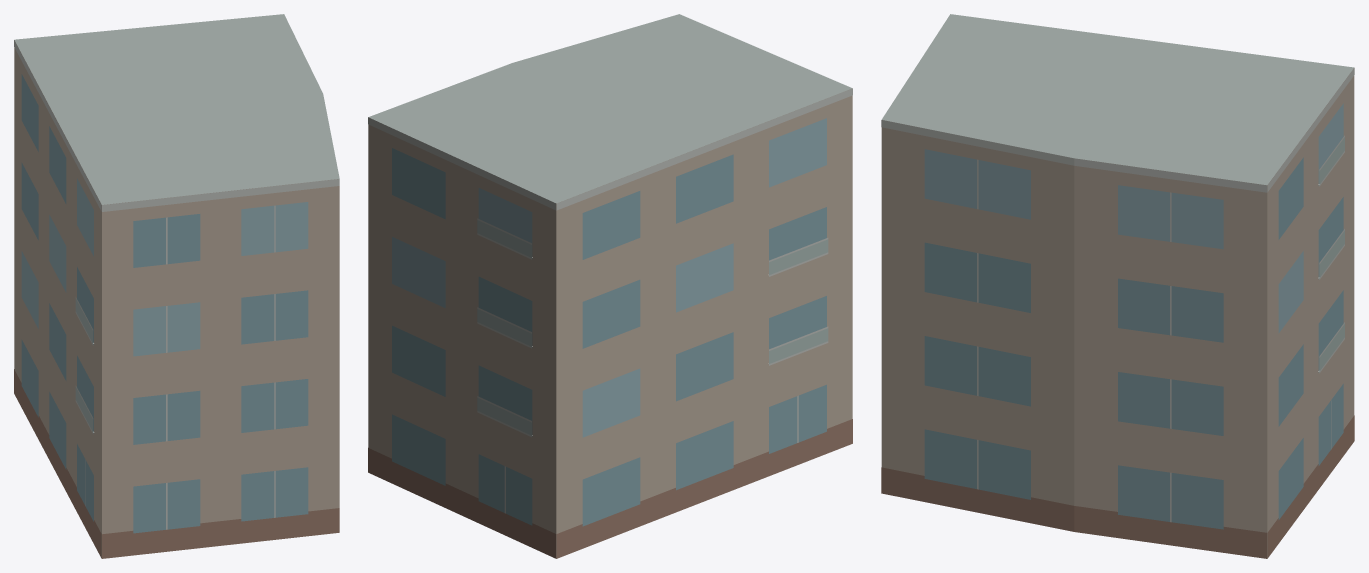
File: survey-upis-32937621.glb
3 views of the same model, side by side, from view 1: azimuth 30°, elevation 25°; view 2: azimuth 150°, elevation 25°; view 3: azimuth 270°, elevation 25° (orthographic). The views are drawn at different scales.
Parts seen in each view (by area): view 1: survey-upis-32937621.tmp; view 2: survey-upis-32937621.tmp; view 3: survey-upis-32937621.tmp.
Part boxes in pixels (<box>): survey-upis-32937621.tmp: <box>14,14,339,558</box>; survey-upis-32937621.tmp: <box>368,14,852,558</box>; survey-upis-32937621.tmp: <box>881,14,1354,558</box>.
Bounding box in the file's own units: 12 × 12.2 × 14.01.
